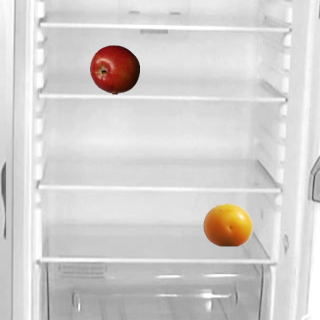Apple Braeburn: (89, 44, 139, 94)
Cherry Wax Yellow: (202, 199, 252, 249)
